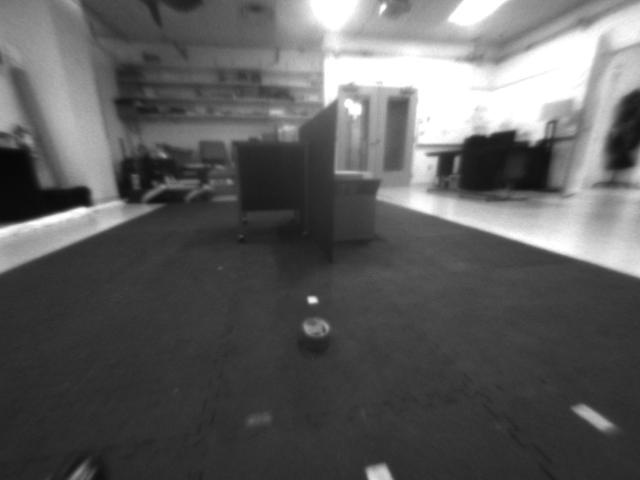dogtoy: (278, 309, 343, 358)
